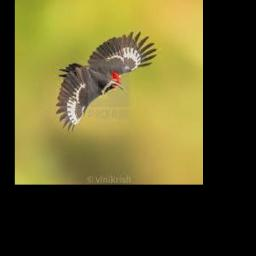Woodpecker: (55, 31, 157, 132)
